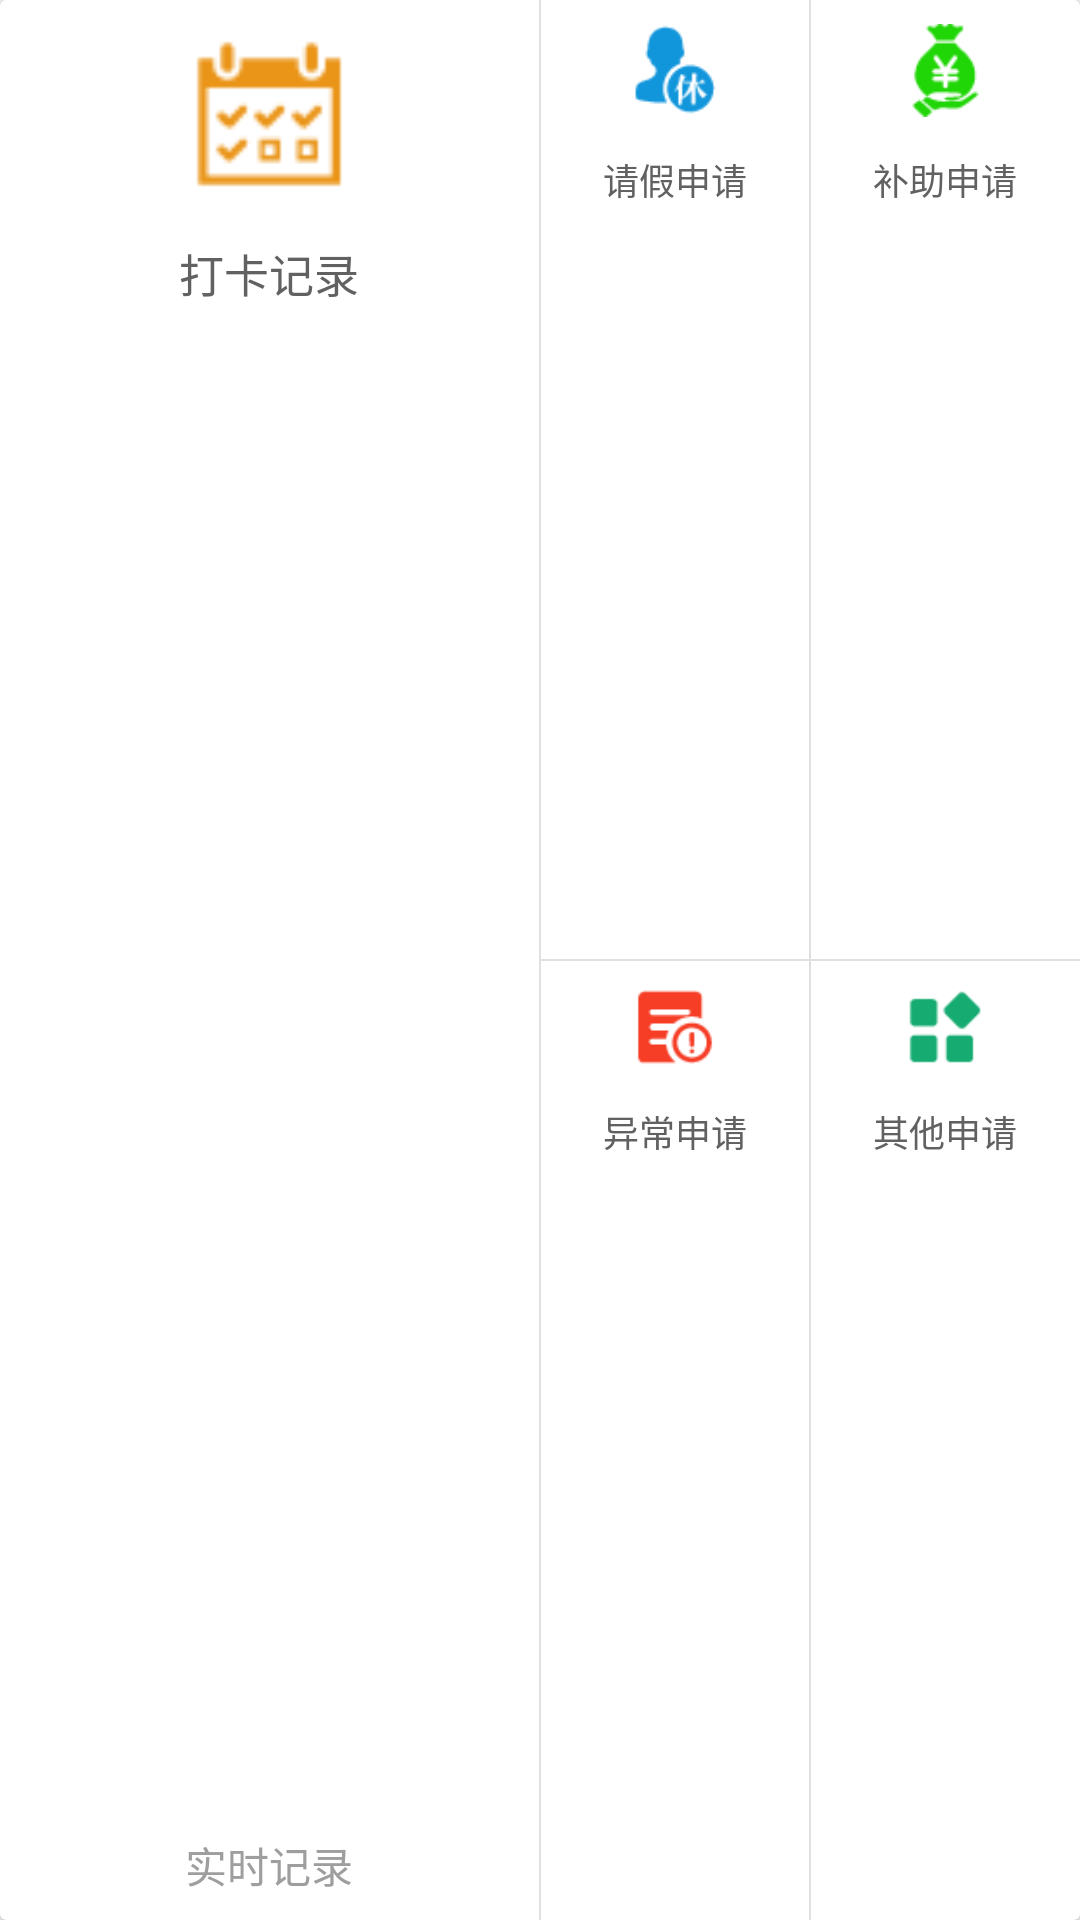

Point at icon controls on the screen. Image size 1080 × 1920, points as (x,y).
allowance: (945,70)
error: (675,1027)
leave: (675,70)
other: (945,1027)
record: (269,114)
